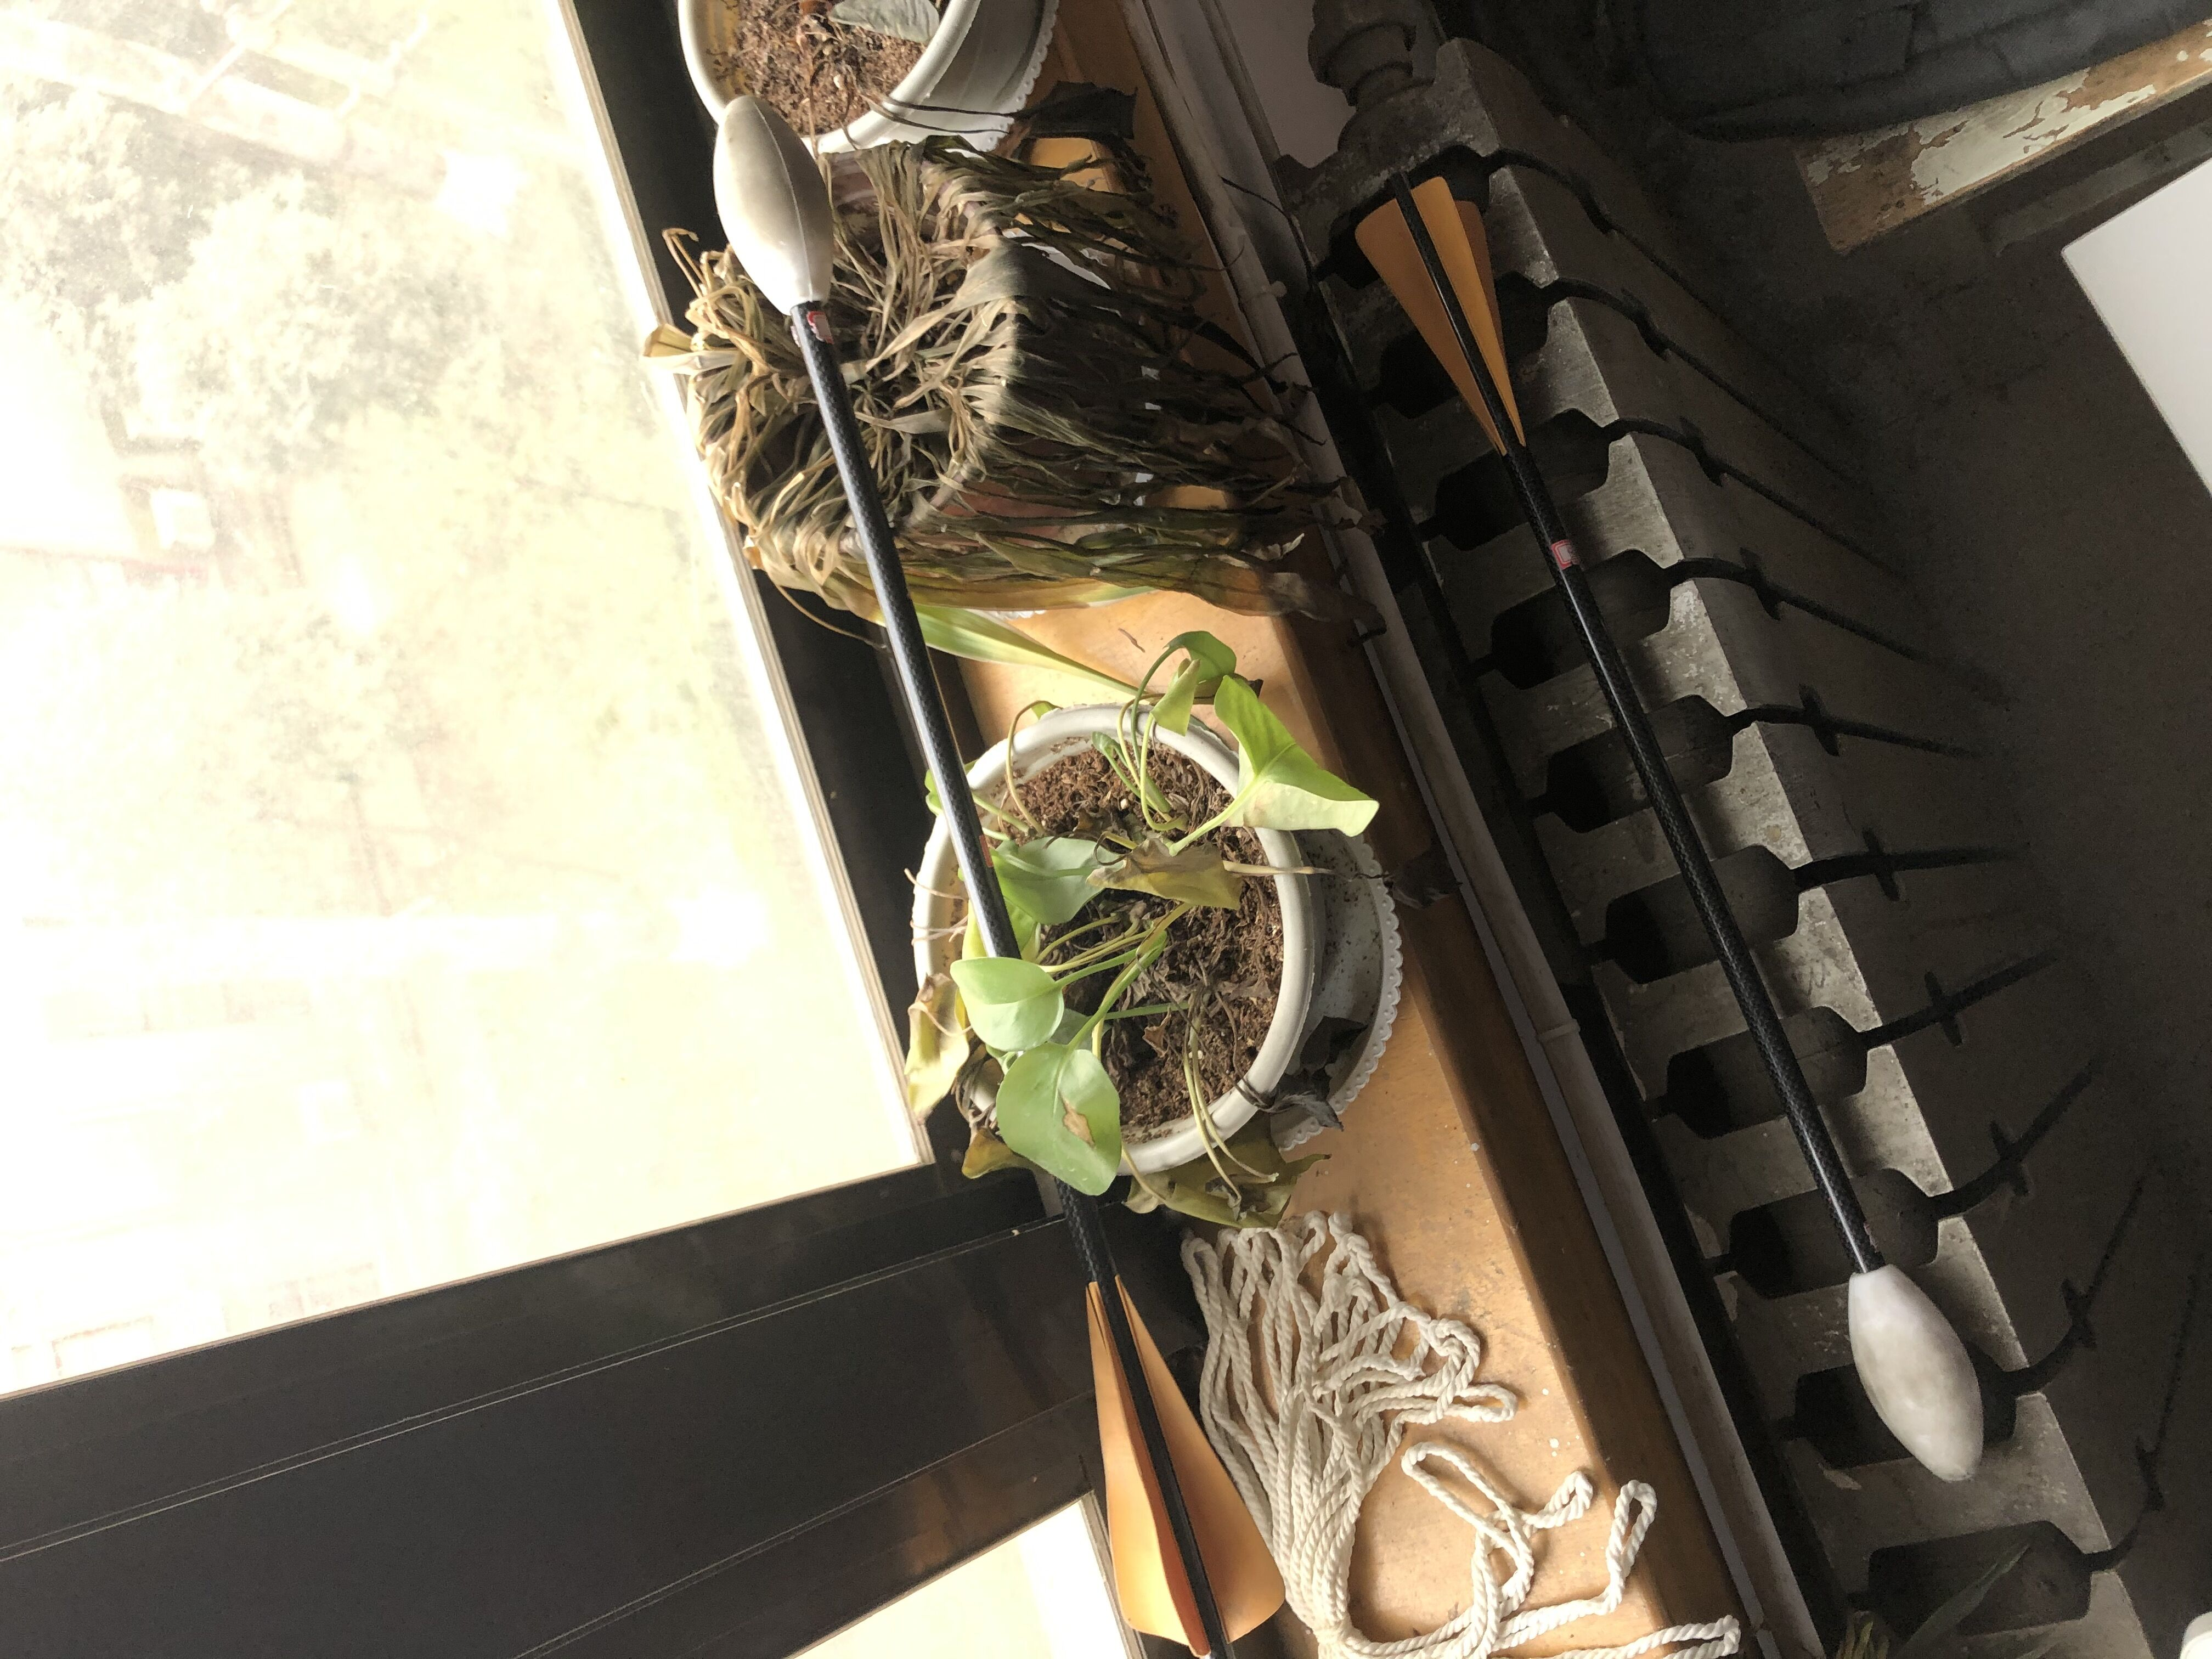arrow: (714, 98, 1291, 1656)
arrowFront: (714, 91, 841, 321)
